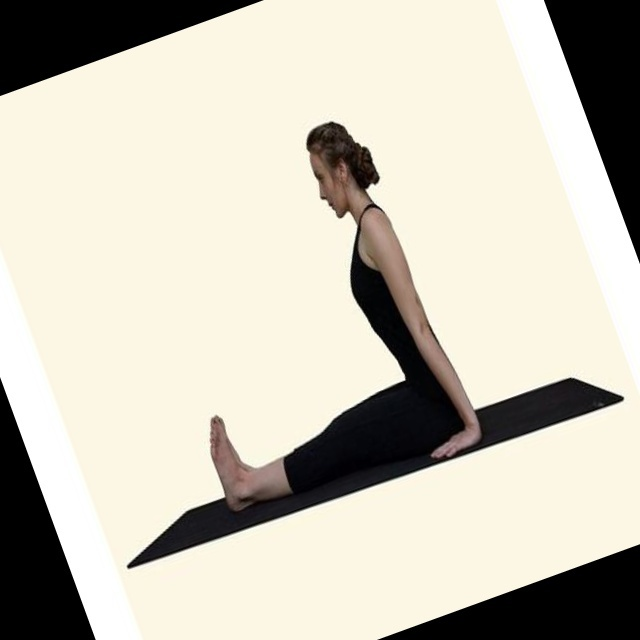Staff_Pose: (207, 120, 484, 520)
